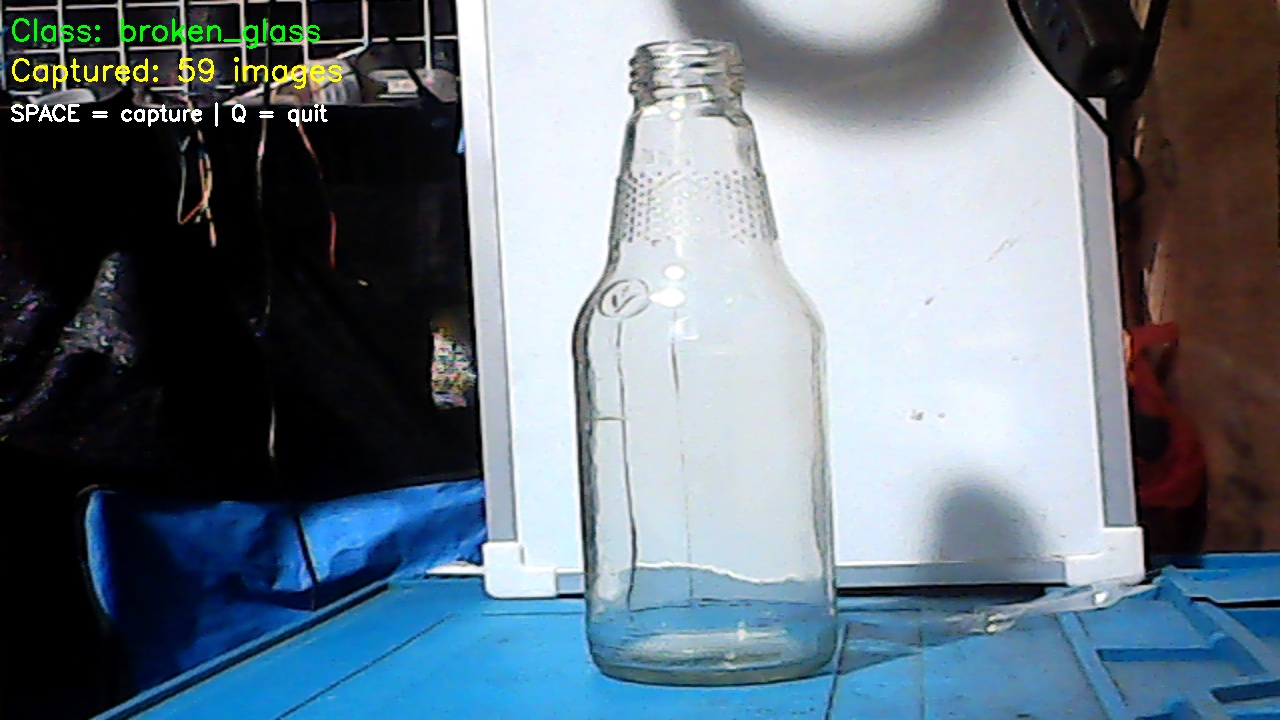broken_glass: (573, 39, 848, 690)
